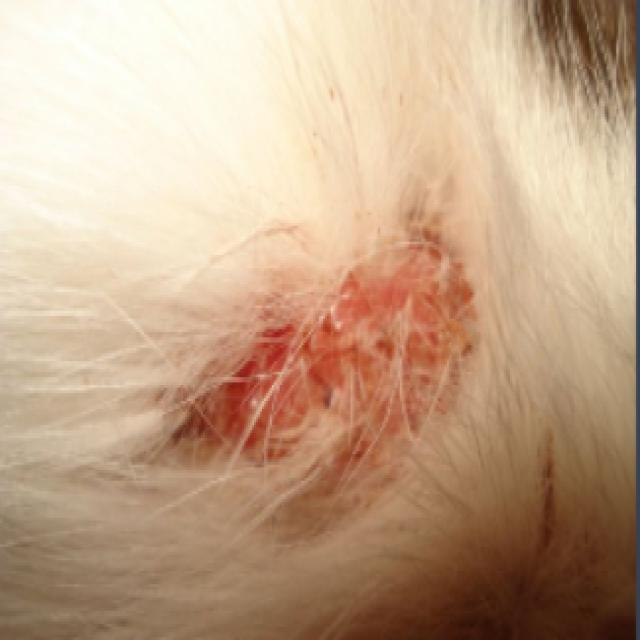hac lao: (110, 180, 517, 557)
